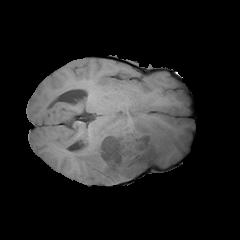glioma: (71, 109, 173, 184)
